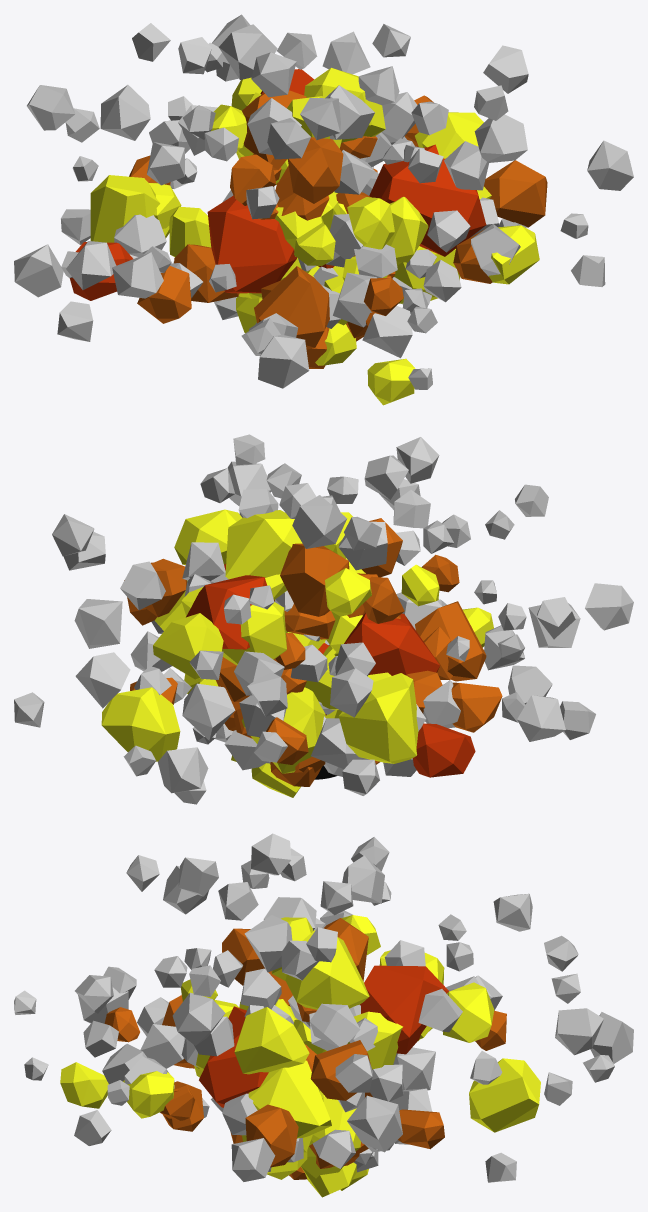
Rendered from Explosion0030.obj.
The picture shows the model from 3 angles, top to bottom: view 1: azimuth 30°, elevation 25°; view 2: azimuth 150°, elevation 25°; view 3: azimuth 270°, elevation 25°; orthographic projection. The views are drawn at different scales.
Parts seen in each view (by area): view 1: Cube_Material, Cube.002_Material.003, Cube.001_Material.002, Cube.003_Material.004; view 2: Cube_Material, Cube.002_Material.003, Cube.001_Material.002, Cube.003_Material.004; view 3: Cube_Material, Cube.002_Material.003, Cube.001_Material.002, Cube.003_Material.004.
Boxes of the visible parts, x1,y1,x2,y2 form: Cube_Material: (14,14,633,389); Cube.002_Material.003: (90,67,539,405); Cube.001_Material.002: (129,90,547,368); Cube.003_Material.004: (69,69,486,300); Cube_Material: (14,434,633,804); Cube.002_Material.003: (101,509,493,797); Cube.001_Material.002: (124,518,502,786); Cube.003_Material.004: (186,564,475,777); Cube_Material: (14,833,633,1182); Cube.002_Material.003: (60,915,540,1197); Cube.001_Material.002: (104,918,506,1179); Cube.003_Material.004: (199,965,449,1107).
Bounding box in the file's own units: 16.56 × 9.41 × 16.66.
